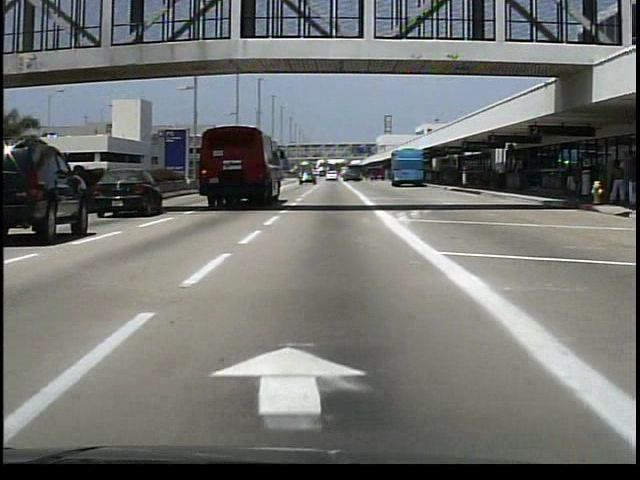person: (498, 162, 511, 192)
